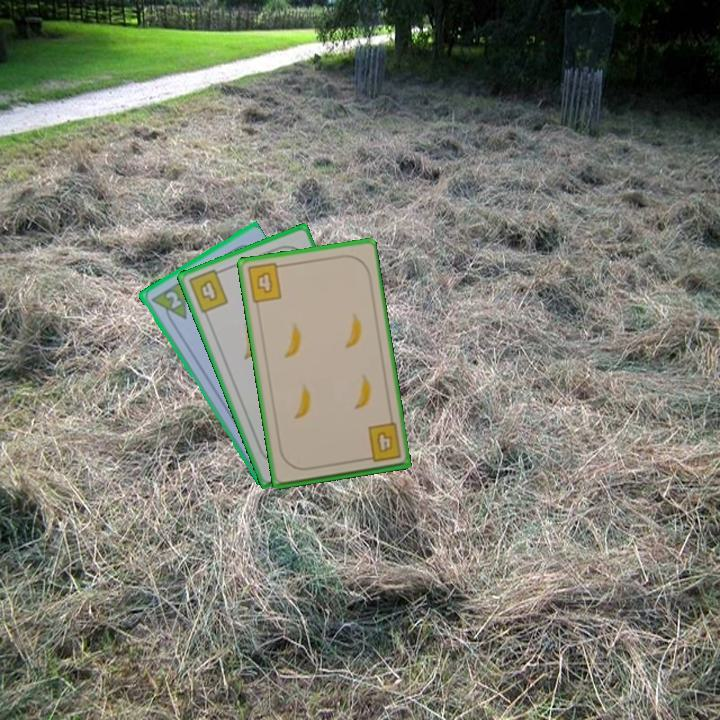2p: (161, 287, 184, 311)
4b: (184, 265, 231, 316), (359, 420, 404, 465), (243, 260, 287, 306)
